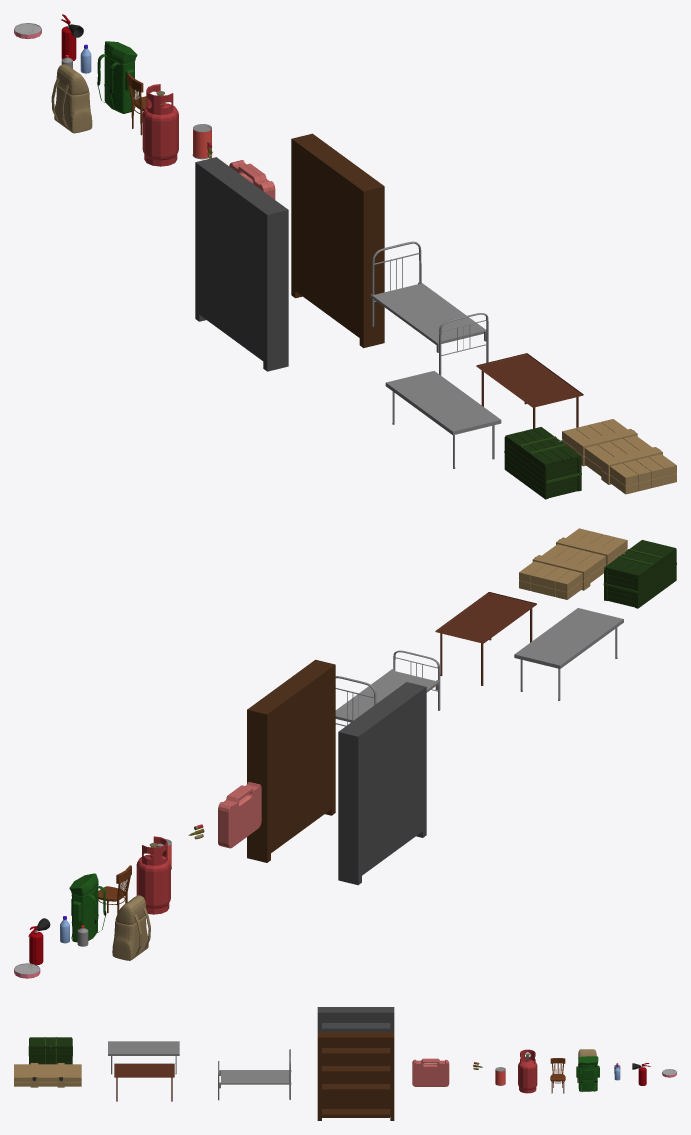
The model's file is NEWGAME_KONSERVA.fbx.
3 renders of one model, top to bottom at view 1: azimuth 30°, elevation 25°; view 2: azimuth 150°, elevation 25°; view 3: azimuth 270°, elevation 25°, orthographic. The views are drawn at different scales.
Parts seen in each view (by area): view 1: Cube.017, Cube.009, Cube.082, Cube.081, Cube.014, Cube.080, Cylinder.005, Cube.084, Cube.002, Cube.085, Cube.004, Cube.008; view 2: Cube.017, Cube.009, Cube.082, Cube.081, Cube.080, Cube.084, Cube.008, Cylinder.005, Cube.014, Cube.002, Cube.085, Cube.004; view 3: Cube.009, Cube.017, Cube.082, Cube.081, Cube.014, Cube.008, Cube.080, Cylinder.005, Cube.084, Cube.004, Cube.085.
Part boxes in pixels (box(x1,y1,x2,y2)): Cube.017: box(195, 157, 288, 371); Cube.009: box(291, 133, 384, 348); Cube.082: box(562, 419, 676, 494); Cube.081: box(385, 371, 501, 435); Cube.014: box(370, 282, 486, 352); Cube.080: box(476, 353, 583, 407); Cylinder.005: box(142, 84, 178, 166); Cube.084: box(504, 437, 581, 499); Cube.002: box(54, 64, 92, 133); Cube.085: box(505, 427, 580, 466); Cube.004: box(104, 53, 134, 113); Cube.008: box(229, 160, 275, 199); Cube.017: box(338, 682, 426, 885); Cube.009: box(247, 659, 335, 862); Cube.082: box(519, 528, 627, 599); Cube.081: box(514, 608, 623, 668); Cube.080: box(435, 592, 536, 643); Cube.084: box(604, 549, 676, 608); Cube.008: box(218, 782, 261, 848); Cylinder.005: box(136, 836, 170, 914); Cube.014: box(335, 669, 439, 722); Cube.002: box(112, 895, 148, 960); Cube.085: box(604, 540, 676, 577); Cube.004: box(71, 886, 98, 942); Cube.009: box(317, 1032, 394, 1120); Cube.017: box(317, 1007, 394, 1031); Cube.082: box(14, 1063, 81, 1087); Cube.081: box(108, 1041, 179, 1055); Cube.014: box(219, 1070, 291, 1088); Cube.008: box(412, 1058, 449, 1086); Cube.080: box(114, 1063, 174, 1077); Cylinder.005: box(518, 1049, 537, 1093); Cube.084: box(29, 1038, 72, 1064); Cube.004: box(576, 1064, 599, 1091); Cube.085: box(29, 1037, 71, 1047).
Bounding box in the file's own units: 2186 × 2339 × 16846.
